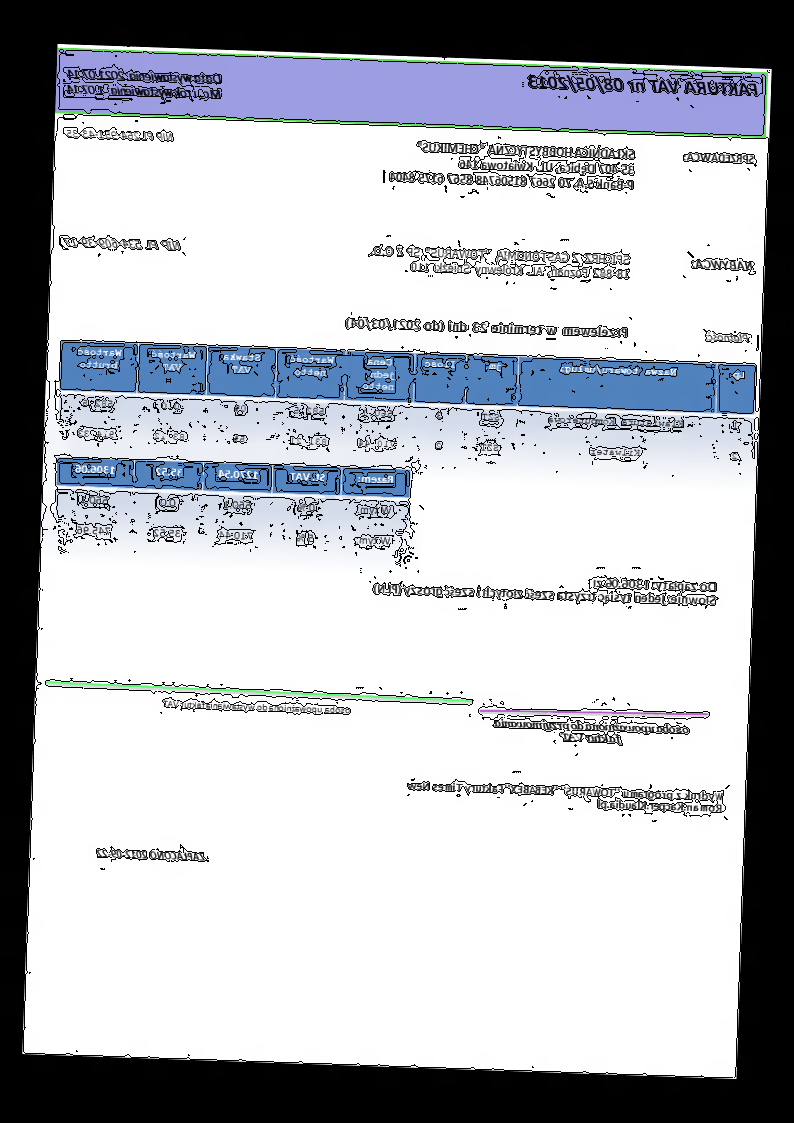Table: (57, 339, 759, 478), (53, 455, 412, 560)
TextBox: (371, 568, 719, 609), (387, 137, 638, 193), (406, 778, 726, 817), (367, 243, 633, 281), (344, 315, 629, 340), (526, 72, 761, 101), (492, 716, 690, 747), (65, 66, 225, 103), (162, 698, 352, 718), (63, 235, 182, 254), (96, 845, 208, 865), (66, 126, 175, 144), (681, 150, 757, 167), (690, 256, 755, 274), (705, 330, 751, 345)
